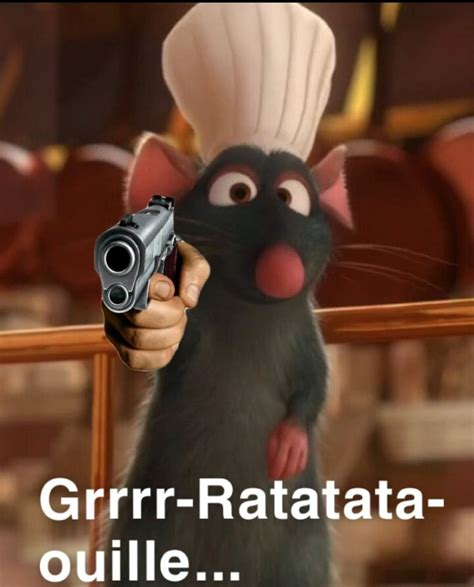gun: (89, 192, 181, 316)
